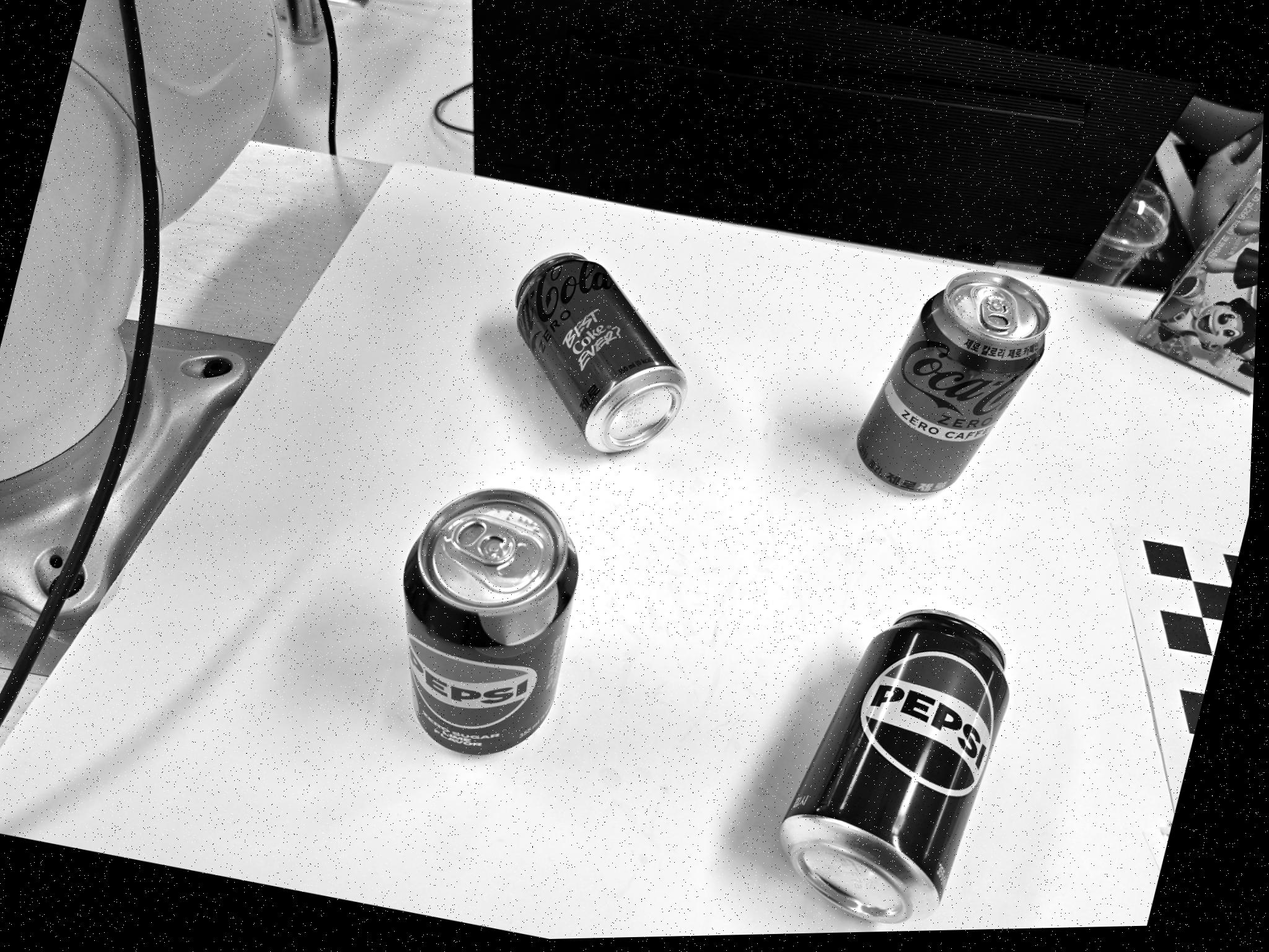can_coke_decaf: (857, 272, 1049, 493)
can_coke_zero: (516, 254, 686, 452)
can_pepsi: (779, 611, 1009, 923)
can_pepsi_zero: (403, 489, 578, 755)
